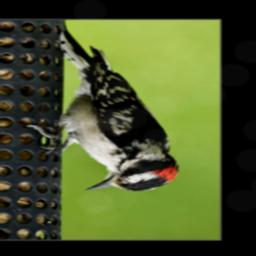Woodpecker: (31, 29, 178, 195)
